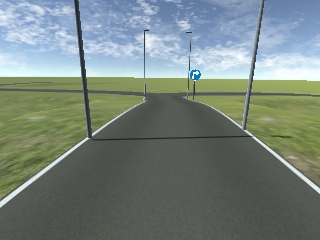right: (189, 69, 201, 80)
